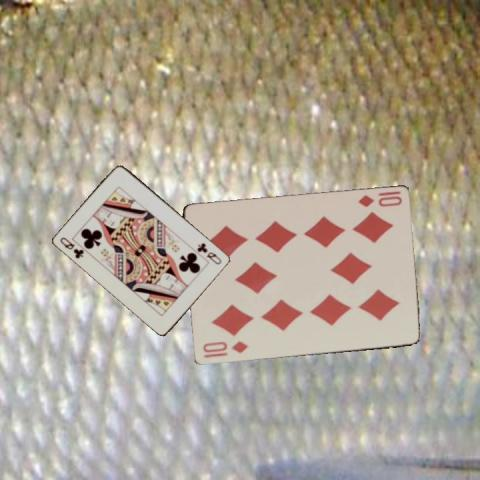10d: (354, 188, 403, 209), (199, 338, 249, 355)
Qc: (194, 239, 223, 266), (57, 234, 86, 260)
